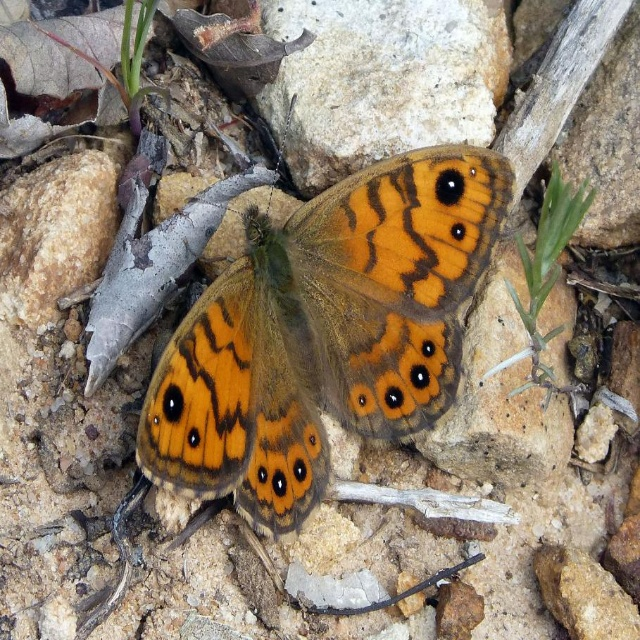Butterfly: (110, 110, 524, 532)
